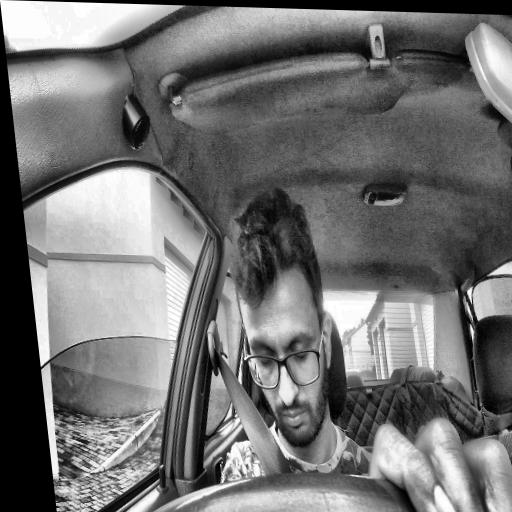drowsy: (227, 185, 343, 450)
